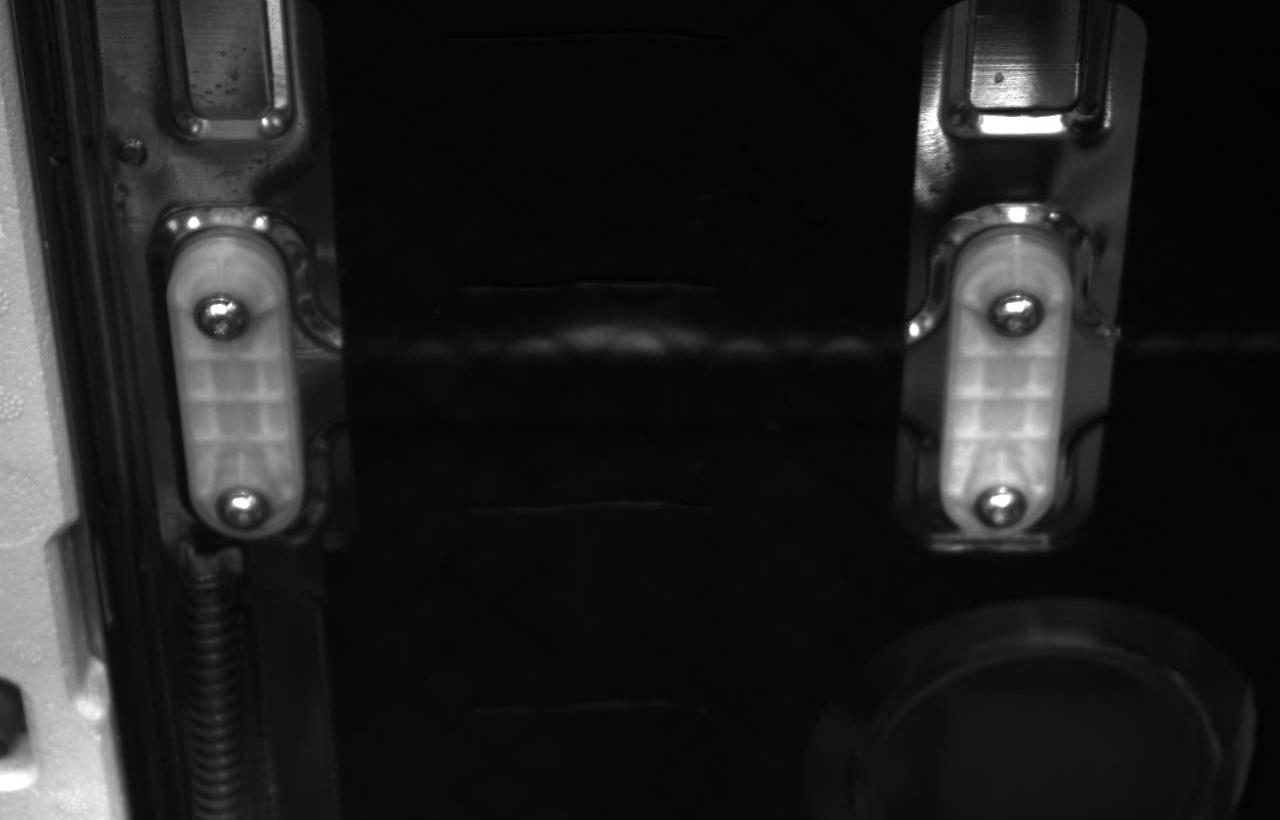vida-ok: (190, 285, 261, 352), (983, 287, 1050, 354), (973, 474, 1039, 542), (213, 481, 279, 539)
